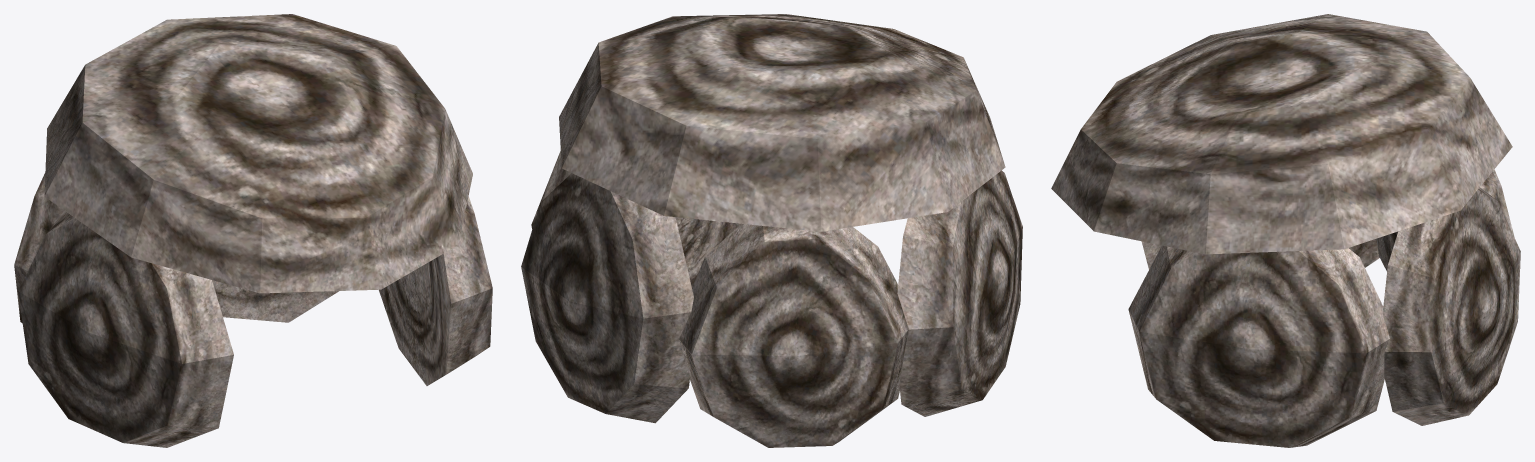
The model's file is thm_dath_mtn_clan_tent_house_s01_l2.fbx.
The picture shows the model from 3 angles, left to right: view 1: azimuth 30°, elevation 25°; view 2: azimuth 150°, elevation 25°; view 3: azimuth 270°, elevation 25°; orthographic projection. The views are drawn at different scales.
Parts seen in each view (by area): view 1: mesh_node; view 2: mesh_node; view 3: mesh_node.
Part boxes in pixels (x1,y1,x2,y2): mesh_node: (14,14,492,447); mesh_node: (521,14,1022,447); mesh_node: (1051,14,1520,447).
Size of the model in its own units: 11.46 by 8.73 by 11.78.
2 materials, 2 textured.
